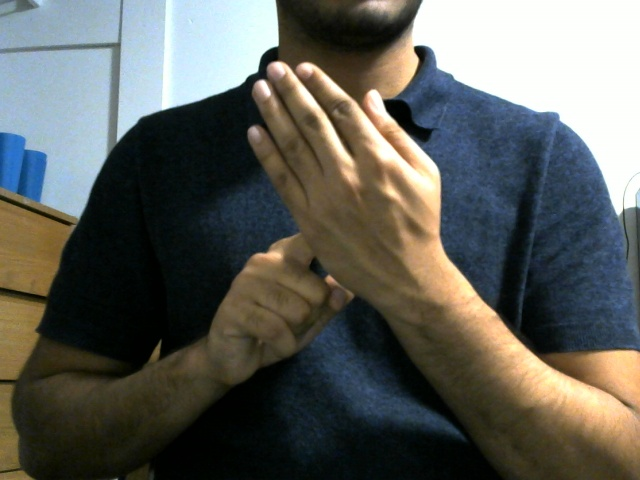Project: (216, 53, 469, 378)
